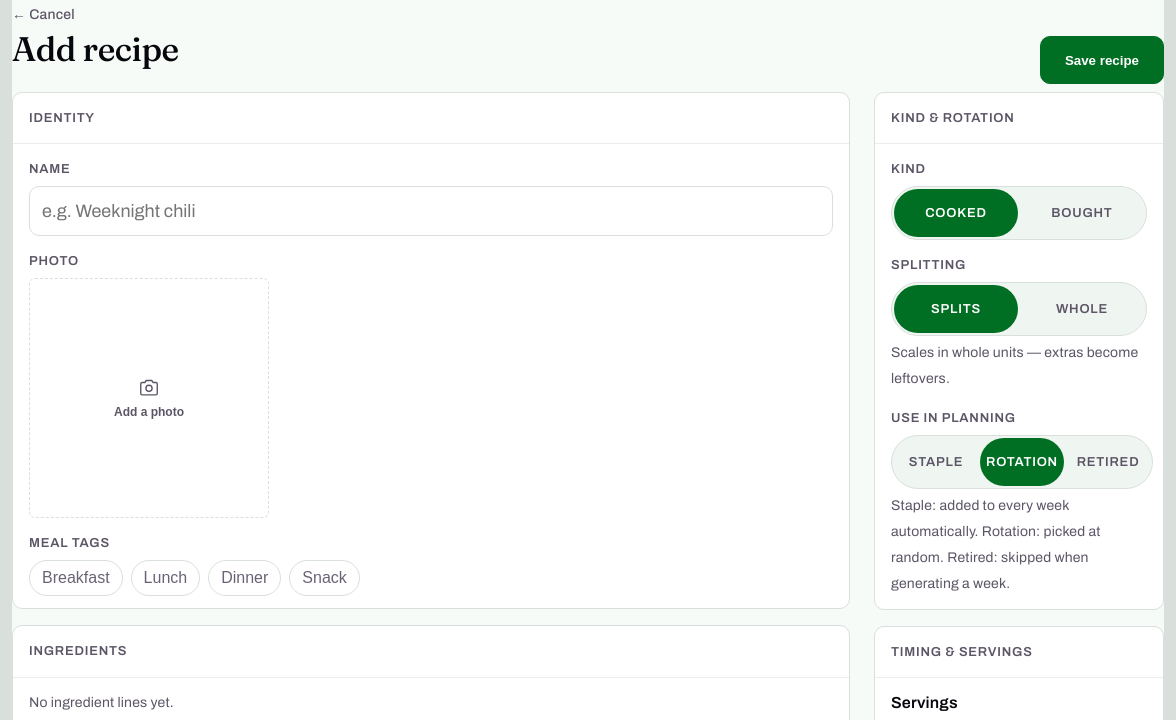
Scenario: RecipeEditor — Can't be split (DESIGN_PURCHASING.md §4/§8) › defaults to unchecked for a new Cooked recipe and checked for Bought
Check: the field labelled "Name" is shown, box [29,186,833,236]
Check: the radio button labelled "Splits" is checked, box [894,285,1018,333]
Click the radio button labelled "Bought". click: click(1082, 213)
box: [1051,206,1113,220]
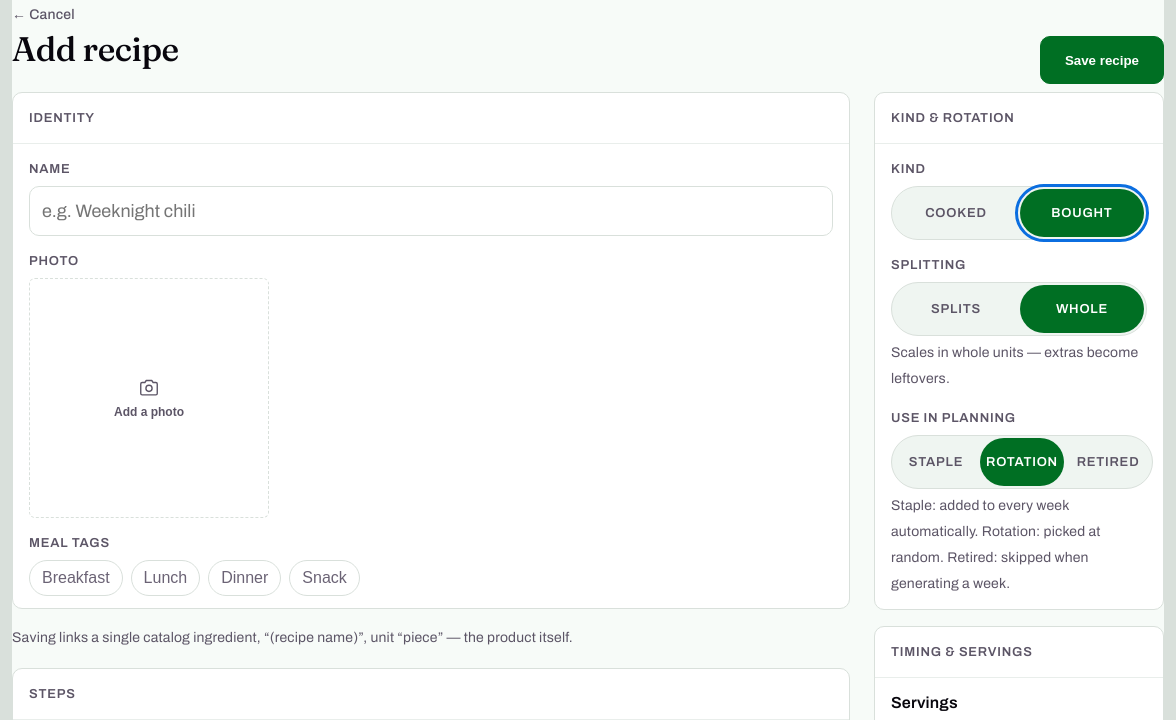
Check: the radio button labelled "Whole" is checked, box [1020,285,1144,333]
Click the radio button labelled "Cooked". click: click(956, 213)
box: [925,206,987,220]
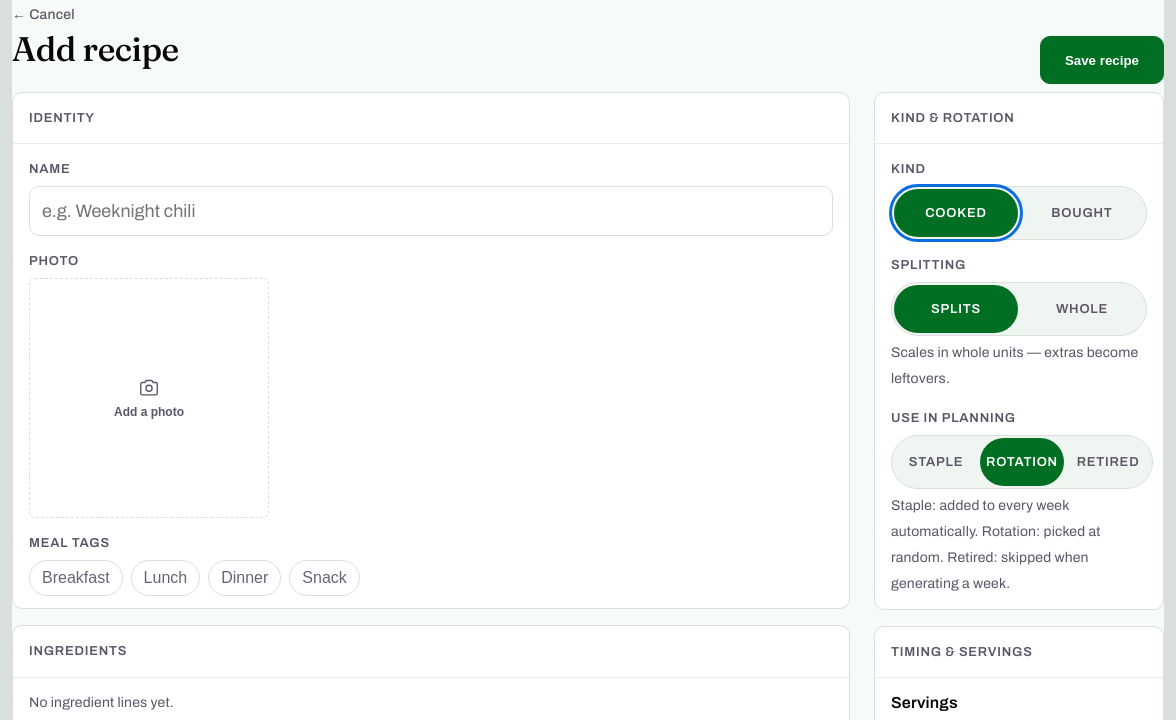
Check: the radio button labelled "Splits" is checked, box [894,285,1018,333]
